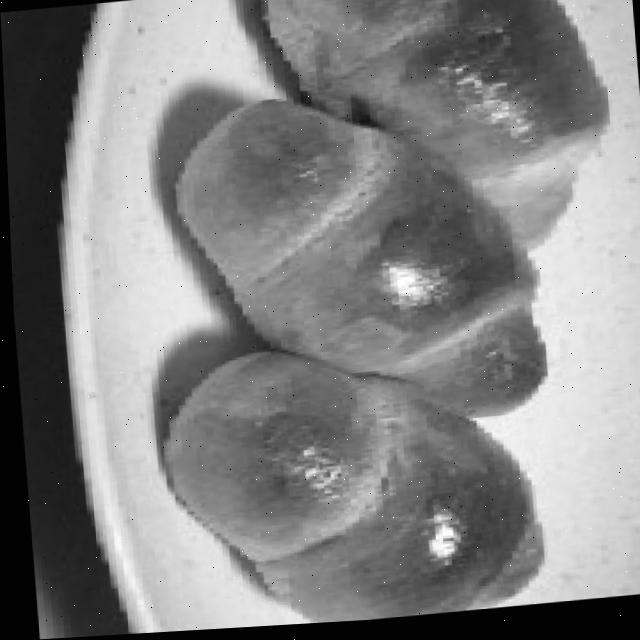面包点心: (131, 0, 640, 634)
